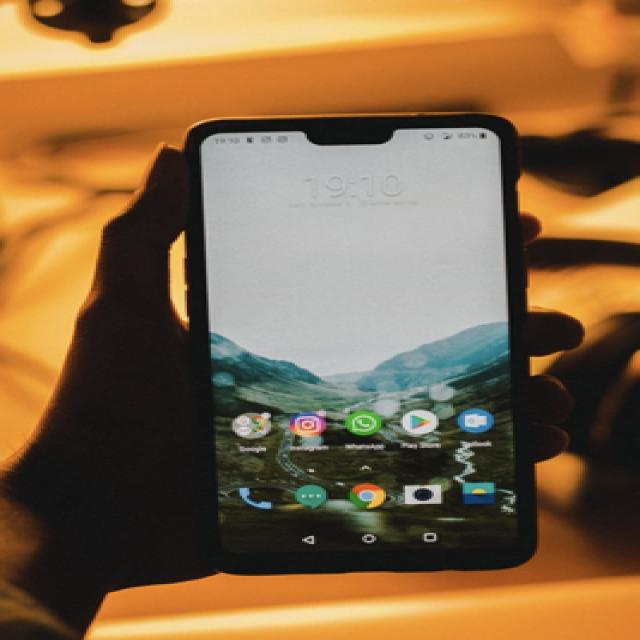cellphone: (182, 112, 537, 574)
